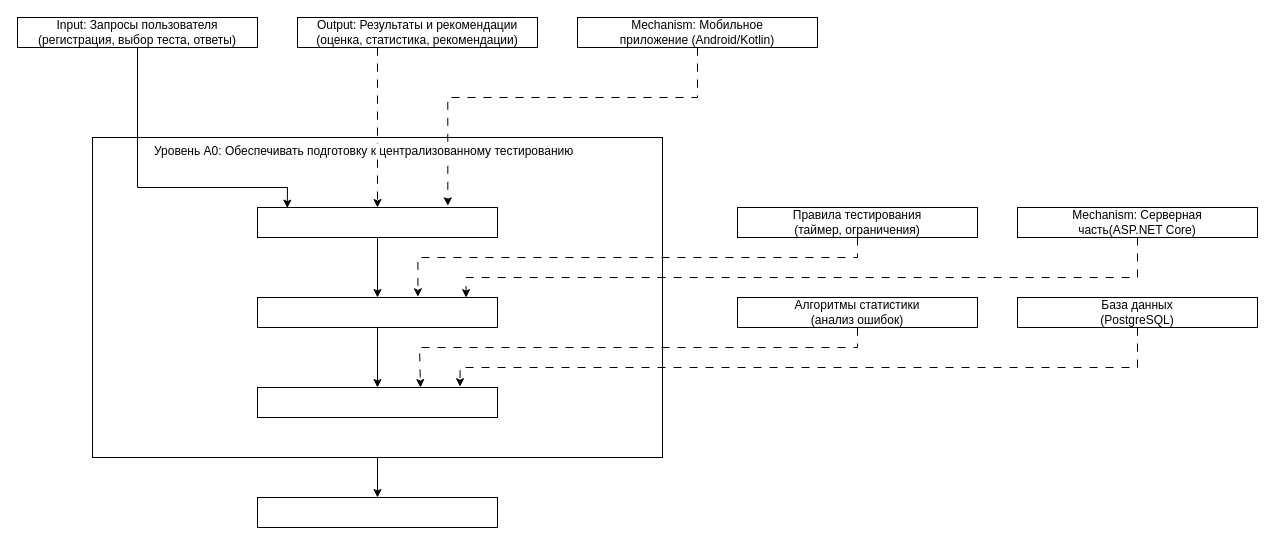
This 1275x545 diagram has some shape labels left out. The shapes that lost their labels are listed below. From the top down, each one's centre as x and y in pixels, then its label:
At point 377,222: "A1: Обработать пользовательский запрос".
At point 377,312: "A2: Выполнить тестирование".
At point 377,402: "A3: Сформировать аналитику и рекомендации".
At point 377,512: "Output: Результаты и рекомендации<br/>(оценка, статистика, рекомендации)".
